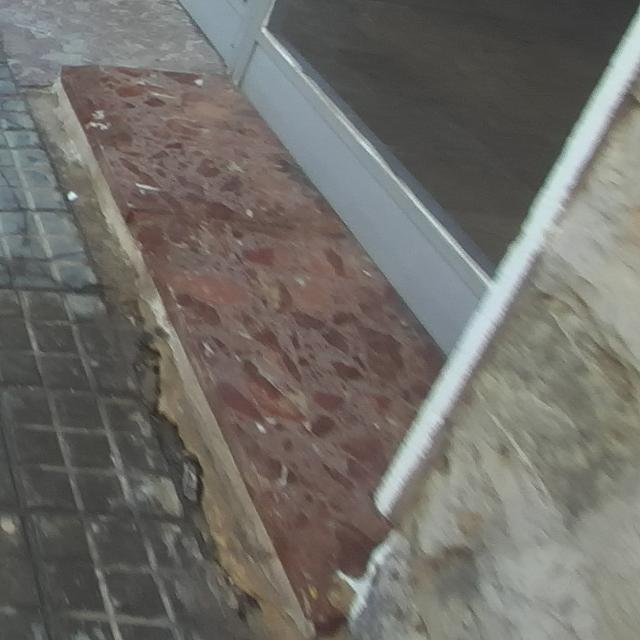calcada_quebrada: (1, 170, 65, 289)
